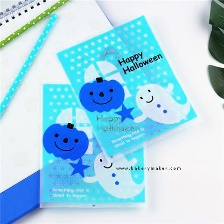snack: (50, 8, 205, 165), (32, 76, 154, 213)
